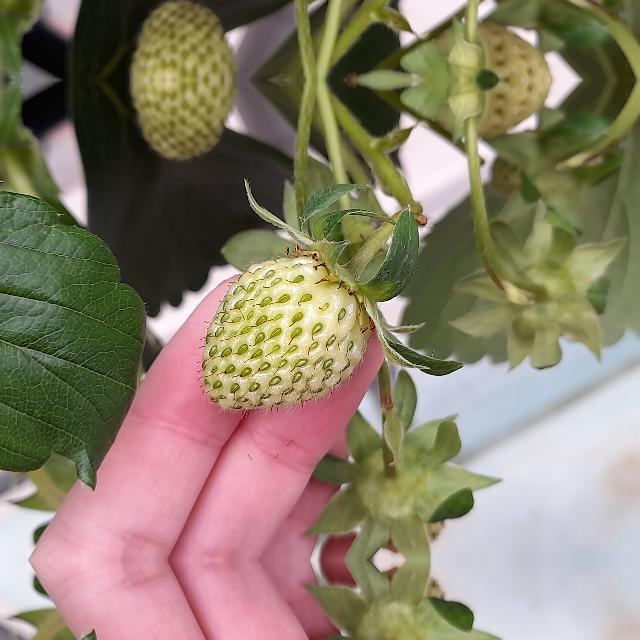Health_25: (202, 256, 370, 409), (127, 80, 239, 164), (127, 0, 239, 80)
